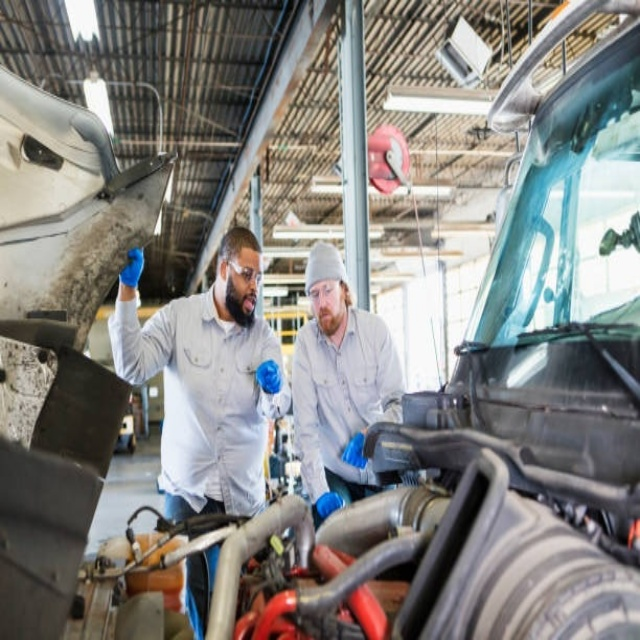Gafas: (227, 261, 265, 287), (308, 281, 340, 302)
Guantes: (253, 356, 284, 397), (118, 243, 144, 287), (341, 428, 369, 467), (316, 485, 345, 518)
Sin_mascara: (241, 290, 258, 322), (315, 307, 337, 328)
